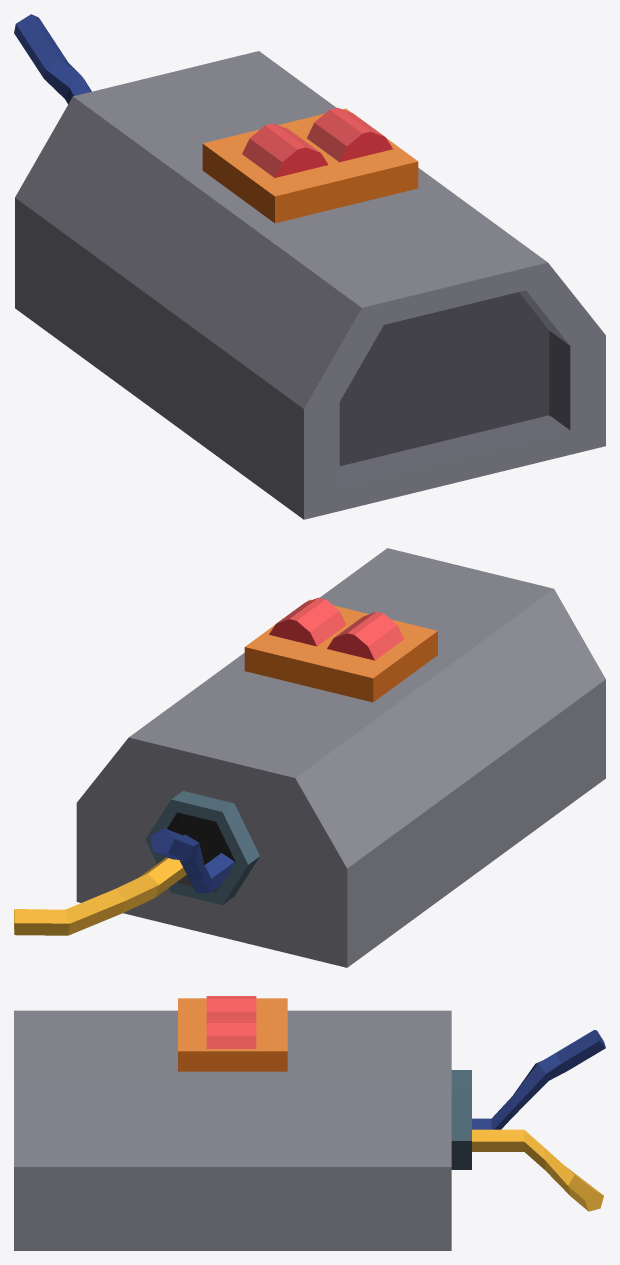
The model's file is Battery_03.glb.
3 views of the same model, one above another, from view 1: azimuth 30°, elevation 25°; view 2: azimuth 150°, elevation 25°; view 3: azimuth 270°, elevation 25° (orthographic). The views are drawn at different scales.
Visible parts, largest first — view 1: Battery_03; view 2: Battery_03; view 3: Battery_03.
Part boxes in pixels (x1,y1,x2,y2): Battery_03: [14, 14, 605, 519]; Battery_03: [14, 548, 605, 967]; Battery_03: [14, 996, 605, 1250].
Size of what is drawn, in the model's own units: 0.4758 by 0.3731 by 1.07.
Materials: 1 (1 with a texture image).
